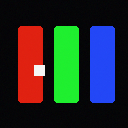1 square: (34, 65, 44, 75)
